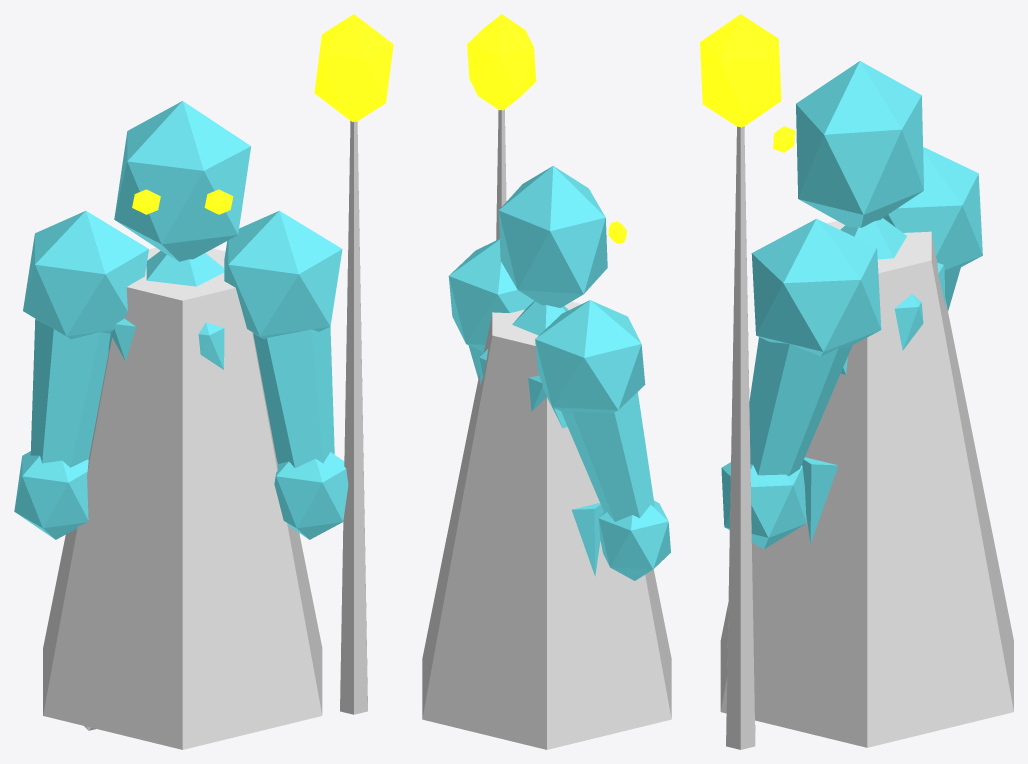
Rendered from mage.glb.
The picture shows the model from 3 angles, left to right: view 1: azimuth 30°, elevation 25°; view 2: azimuth 150°, elevation 25°; view 3: azimuth 270°, elevation 25°; orthographic projection. The views are drawn at different scales.
Parts seen in each view (by area): view 1: Robe.001, Head.020, Shoulder.016, Shoulder.017, Staff.001, Arm.018, Arm.019, Staff jewel.001, Hand.016, Hand.017, Torso.008; view 2: Robe.001, Head.020, Shoulder.016, Arm.018, Shoulder.017, Staff jewel.001, Hand.016, Torso.008, Leg.040, Staff.001; view 3: Robe.001, Head.020, Shoulder.017, Staff.001, Arm.019, Staff jewel.001, Shoulder.016, Hand.017, Torso.008, Leg.041.
Boxes of the visible parts, x1,y1,x2,y2 form: Robe.001: [43, 247, 322, 749]; Head.020: [114, 101, 250, 261]; Shoulder.016: [23, 211, 148, 339]; Shoulder.017: [224, 210, 342, 339]; Staff.001: [340, 121, 367, 714]; Arm.018: [30, 319, 110, 467]; Arm.019: [253, 327, 334, 468]; Staff jewel.001: [314, 14, 393, 121]; Hand.016: [14, 451, 88, 539]; Hand.017: [274, 452, 348, 539]; Torso.008: [108, 251, 224, 369]; Robe.001: [422, 301, 671, 749]; Head.020: [498, 166, 607, 307]; Shoulder.016: [535, 300, 645, 414]; Arm.018: [561, 392, 654, 521]; Shoulder.017: [448, 239, 534, 351]; Staff jewel.001: [467, 14, 536, 110]; Hand.016: [598, 500, 670, 580]; Torso.008: [479, 301, 568, 428]; Leg.040: [571, 503, 604, 576]; Staff.001: [496, 109, 506, 239]; Robe.001: [720, 221, 1013, 747]; Head.020: [796, 61, 923, 227]; Shoulder.017: [751, 218, 881, 356]; Staff.001: [726, 126, 755, 749]; Arm.019: [749, 337, 852, 476]; Staff jewel.001: [700, 14, 781, 127]; Shoulder.016: [883, 147, 982, 273]; Hand.017: [721, 462, 806, 548]; Torso.008: [840, 218, 945, 374]; Leg.041: [801, 457, 838, 543].
Size of the model in its own units: 1.68 by 3.9 by 1.48.
